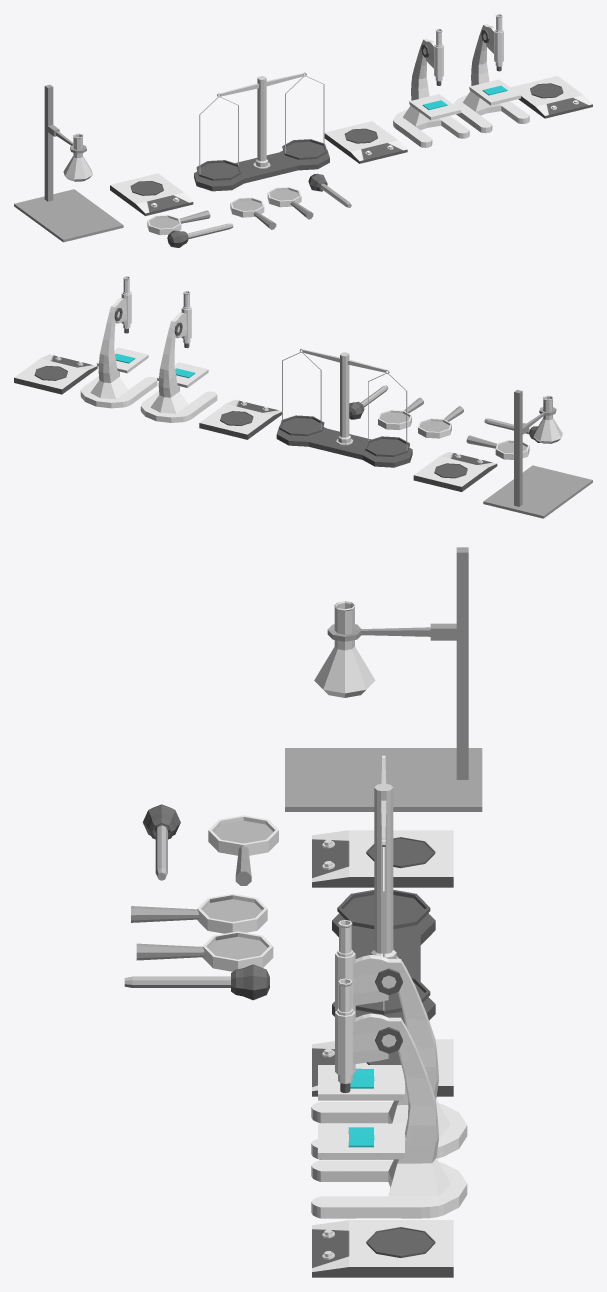
The model's file is Alat Alat Lab Meja 3.fbx.
3 views of the same model, one above another, from view 1: azimuth 30°, elevation 25°; view 2: azimuth 150°, elevation 25°; view 3: azimuth 270°, elevation 25° (orthographic). The views are drawn at different scales.
Parts seen in each view (by area): view 1: Cylinder.016, Cube.020, Cylinder.019, Cylinder.018, Cylinder.017, Cylinder.010, Cylinder.020, Cube.017, Circle.016, Cube.018, Cube.019, Sphere.008 (+1 smaller); view 2: Cylinder.016, Cube.020, Cylinder.019, Cylinder.018, Cylinder.017, Cylinder.020, Cylinder.010, Circle.016, Cube.018, Cube.019, Cube.017, Sphere.009; view 3: Cylinder.018, Cube.020, Cylinder.019, Cylinder.016, Cylinder.020, Cylinder.017, Cube.018, Cube.019, Circle.016, Cube.017, Sphere.009, Cylinder.010 (+1 smaller).
Part boxes in pixels (x1,y1,x2,y2): Cylinder.016: (194,72,329,191); Cube.020: (14,84,123,242); Cylinder.019: (393,28,469,147); Cylinder.018: (453,14,529,133); Cylinder.017: (110,173,193,215); Cylinder.010: (324,121,407,163); Cylinder.020: (510,76,592,118); Cube.017: (147,210,210,235); Circle.016: (63,133,92,181); Cube.018: (230,197,276,229); Cube.019: (267,187,313,219); Sphere.008: (167,223,233,247); Cylinder.016: (276,348,412,467); Cube.020: (483,389,592,518); Cylinder.019: (140,291,217,422); Cylinder.018: (80,276,157,408); Cylinder.017: (413,452,497,491); Cylinder.020: (14,354,97,394); Cylinder.010: (199,399,281,439); Circle.016: (533,395,562,443); Cube.018: (418,406,463,438); Cube.019: (378,397,423,430); Cube.017: (466,435,529,459); Sphere.009: (349,385,388,419); Cylinder.018: (311,978,467,1218); Cube.020: (285,547,482,811); Cylinder.019: (311,920,467,1159); Cylinder.016: (332,755,435,1023); Cylinder.020: (312,1220,453,1277); Cylinder.017: (312,830,453,887); Cube.018: (131,893,267,933); Cube.019: (136,931,273,971); Circle.016: (314,601,375,697); Cube.017: (208,815,278,885); Sphere.009: (124,964,269,1000); Cylinder.010: (312,1039,453,1096).
Size of the model in its own units: 570 by 121 by 165.
